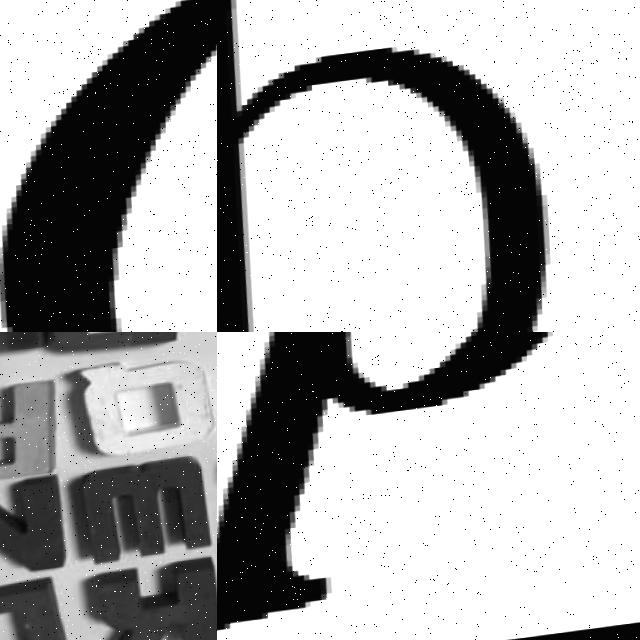D: (217, 332, 640, 640), (0, 580, 79, 640)
K: (105, 558, 217, 640)
N: (0, 476, 74, 585)
P: (44, 332, 190, 358)
Q: (217, 0, 598, 332), (67, 349, 217, 463)
R: (0, 378, 68, 490)
W: (73, 454, 217, 566)
